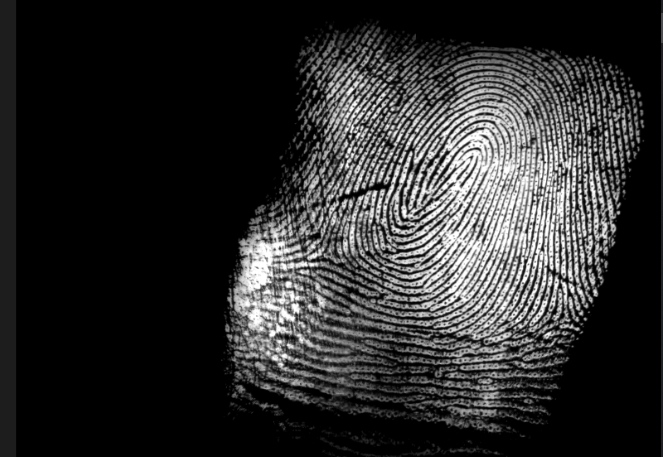deltas: (532, 294, 585, 340), (300, 229, 349, 276)
nucleo: (445, 135, 497, 192)
